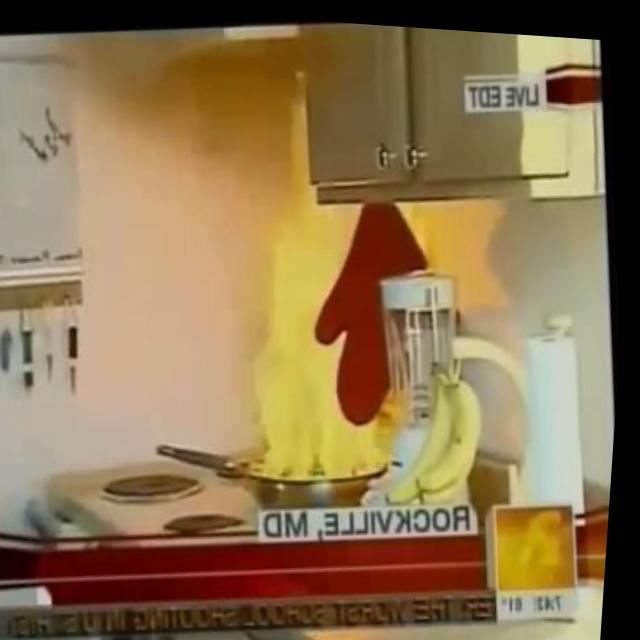fire: (209, 66, 469, 487)
